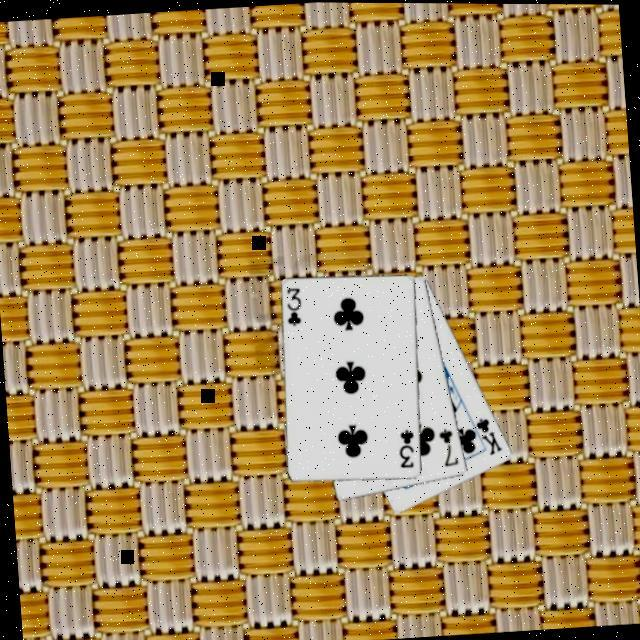3C: (395, 425, 420, 469), (283, 284, 306, 328)
7C: (436, 423, 463, 469)
KC: (467, 412, 506, 457)
